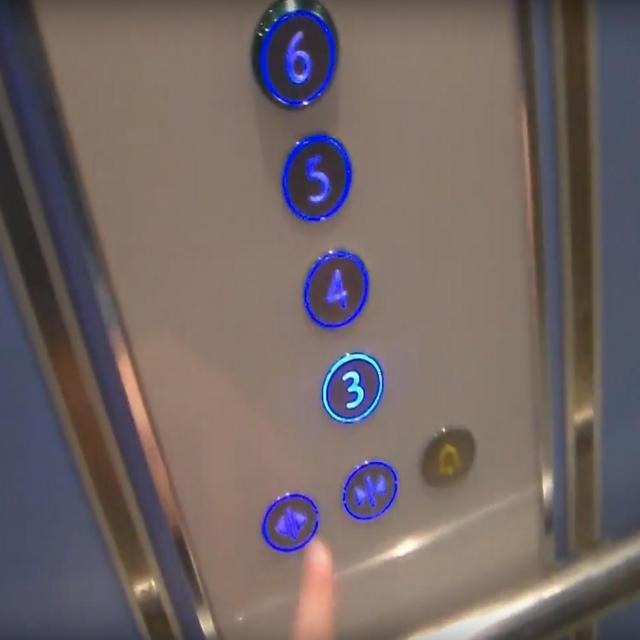3: (320, 348, 385, 426)
4: (301, 243, 369, 329)
5: (278, 126, 353, 223)
6: (246, 0, 340, 115)
alarm: (417, 418, 478, 492)
close: (340, 452, 401, 526)
open: (259, 483, 319, 557)
